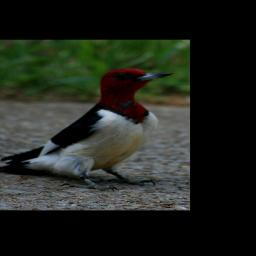Woodpecker: (0, 67, 179, 190)
